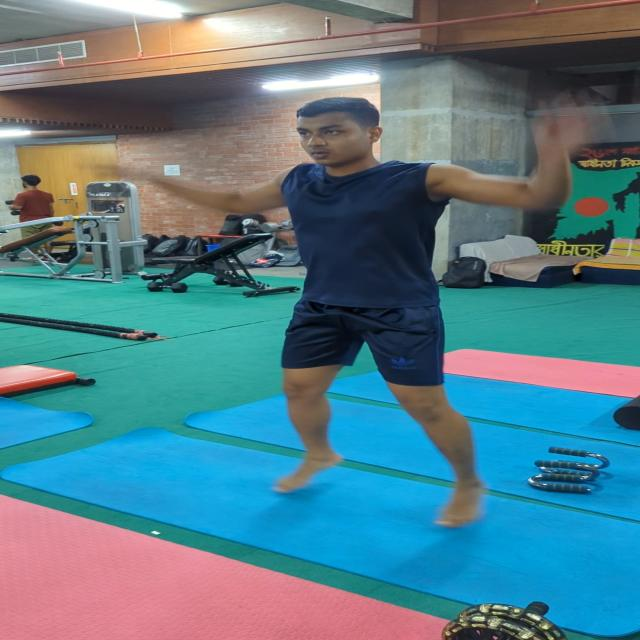Normal_JumpingJacks: (160, 76, 559, 536)
